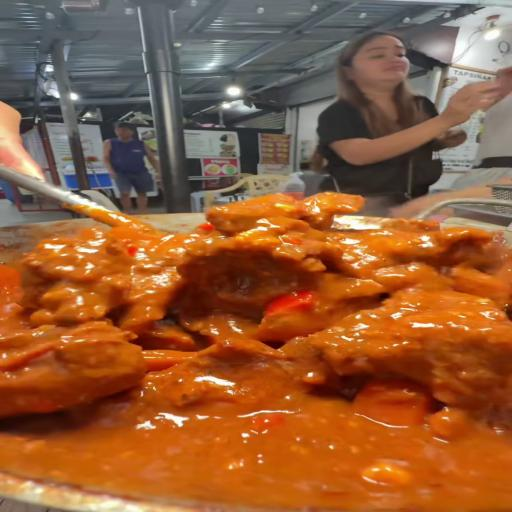pork caldereta: (0, 188, 512, 468)
